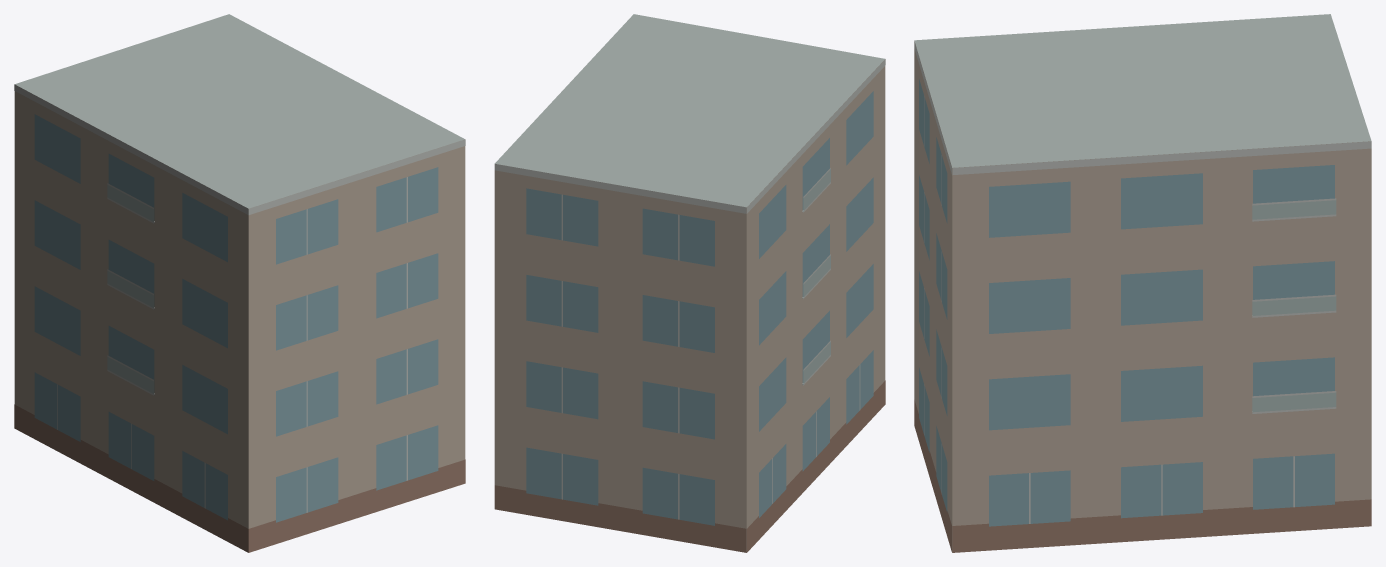
The model's file is survey-upis-32663620.glb.
3 renders of one model, left to right at view 1: azimuth 30°, elevation 25°; view 2: azimuth 150°, elevation 25°; view 3: azimuth 270°, elevation 25°, orthographic. The views are drawn at different scales.
Parts seen in each view (by area): view 1: survey-upis-32663620.tmp; view 2: survey-upis-32663620.tmp; view 3: survey-upis-32663620.tmp.
Part boxes in pixels (box(x1,y1,x2,y2)): survey-upis-32663620.tmp: box(14, 14, 465, 552); survey-upis-32663620.tmp: box(494, 14, 885, 552); survey-upis-32663620.tmp: box(914, 14, 1371, 552).
Size of the model in its own units: 10.98 by 12.8 by 13.79.
